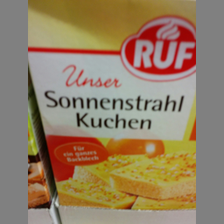cake: (28, 2, 195, 216)
